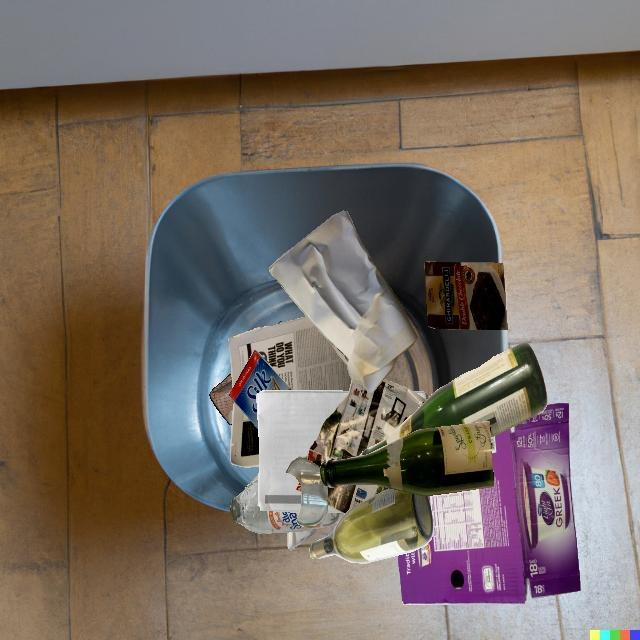cardboard: (397, 403, 581, 605), (425, 262, 507, 330), (229, 350, 294, 429)
glass: (359, 343, 547, 456), (320, 421, 494, 495), (309, 488, 433, 564), (230, 479, 340, 534), (286, 457, 328, 526)
paper: (269, 210, 418, 393), (297, 399, 427, 513), (256, 390, 349, 513), (303, 379, 426, 467), (229, 316, 352, 391), (209, 373, 234, 424), (287, 528, 316, 551)
